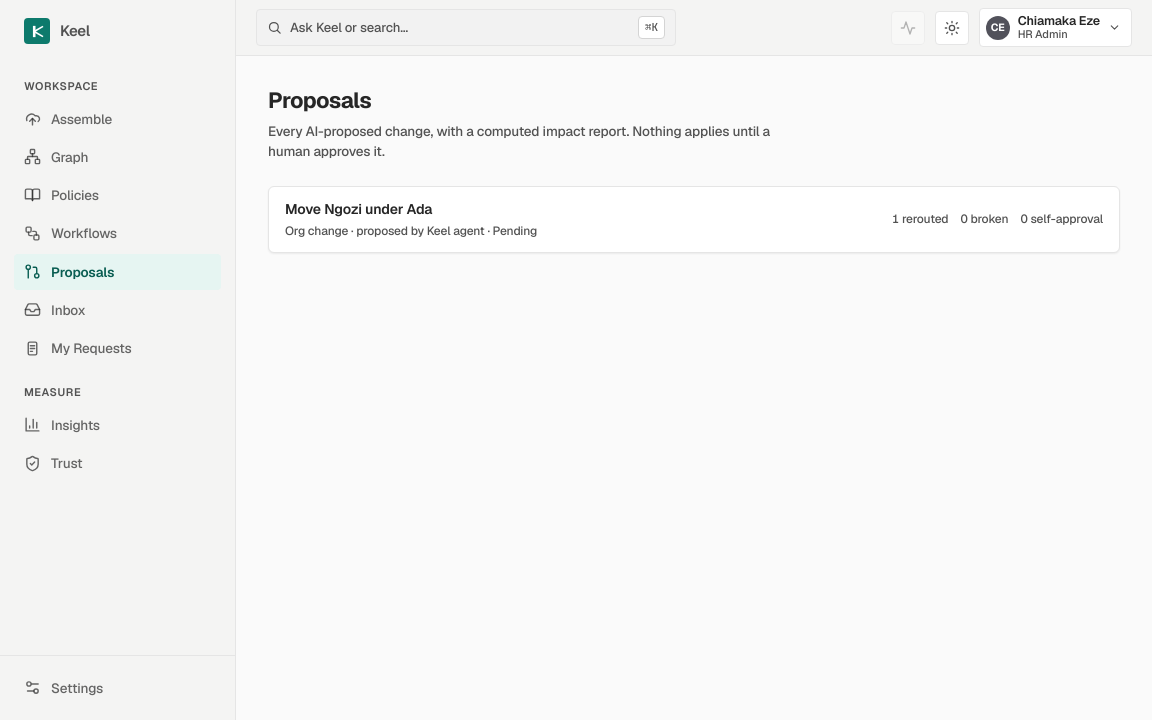
Test: /proposals › expands a row to show the diff in plain language with names resolved, not raw ids
The width and height of the screenshot is (1152, 720).
Click the button "Move Ngozi under Ada".
click(359, 208)  # box [269,186,1119,252]
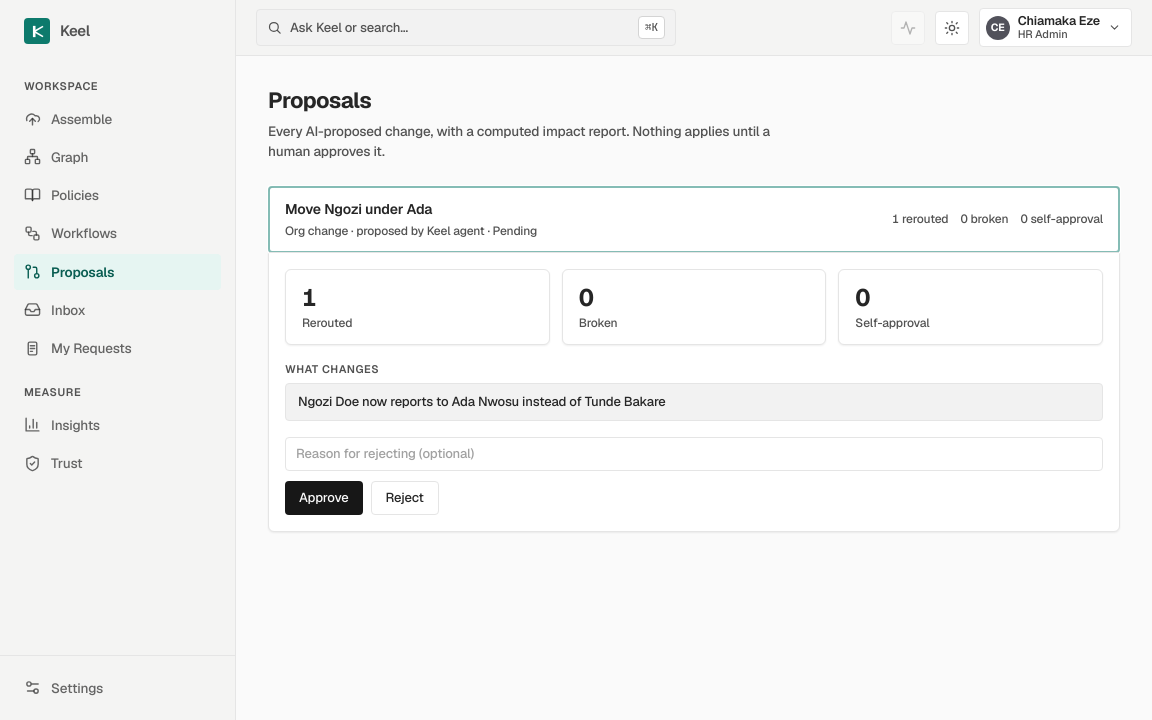
Expected: the list item "Ngozi Doe now reports to Ada Nwosu instead of Tunde Bakare" is shown, [285,383,1103,420]
Expected: the button "Approve" is shown, [285,480,362,514]
Expected: the button "Reject" is shown, [370,480,439,514]
